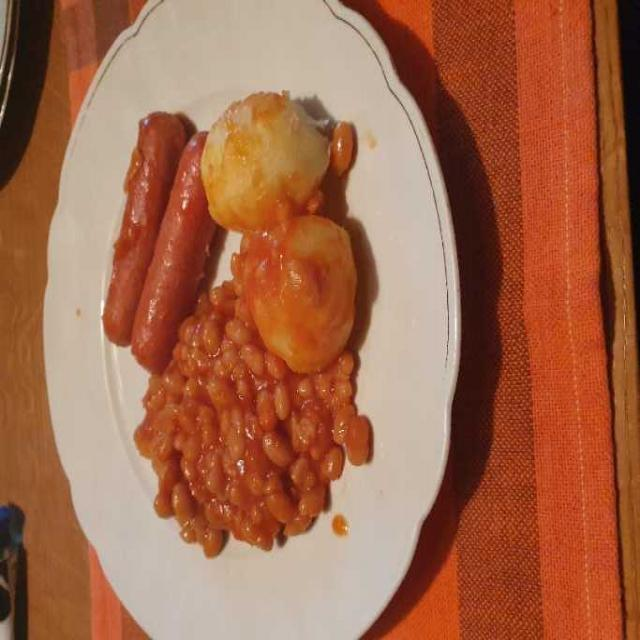potatoes: (199, 96, 366, 390)
sausage: (103, 109, 215, 369)
